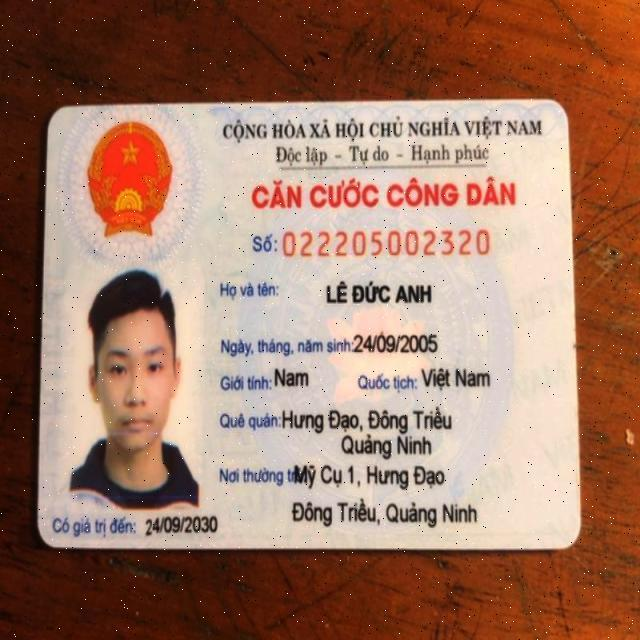current_place: (290, 495, 479, 528), (292, 462, 448, 488)
dob: (352, 329, 443, 358)
expire_date: (144, 516, 220, 537)
gender: (272, 365, 317, 395)
id: (281, 226, 493, 260)
name: (323, 277, 438, 313)
nationality: (418, 363, 495, 391)
origin_place: (280, 405, 457, 434), (340, 431, 434, 458)
